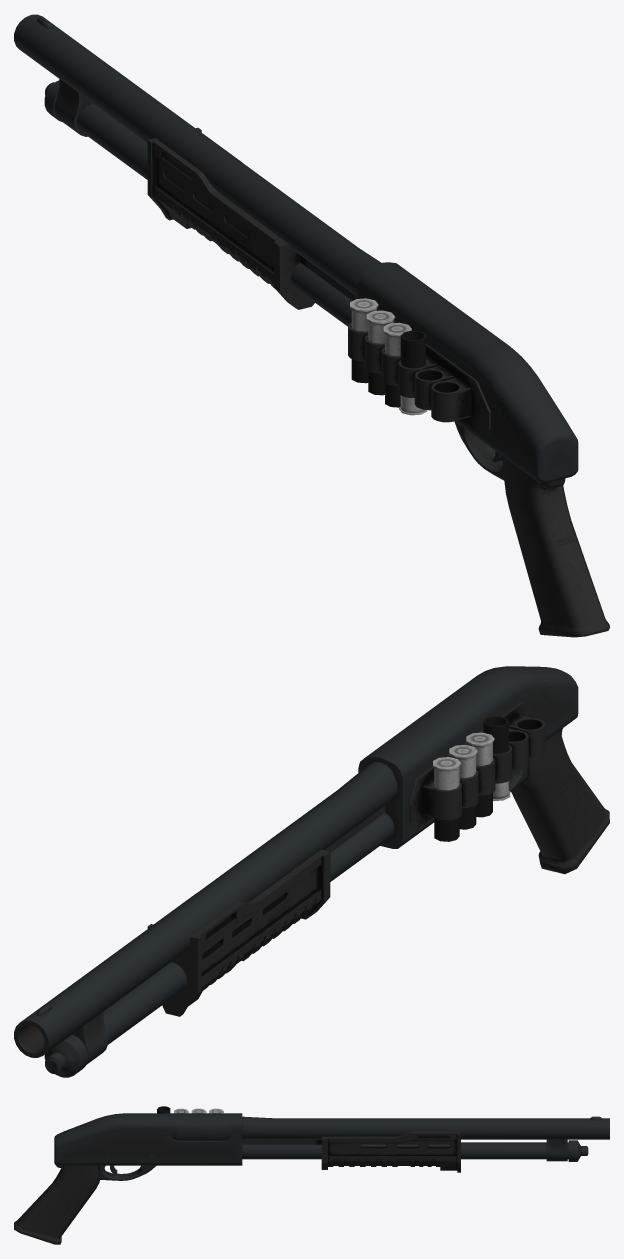
File: shotgun.fbx
The picture shows the model from 3 angles, top to bottom: view 1: azimuth 30°, elevation 25°; view 2: azimuth 150°, elevation 25°; view 3: azimuth 270°, elevation 25°; orthographic projection. The views are drawn at different scales.
Visible parts, largest first — view 1: holderlow.002; view 2: holderlow.002; view 3: holderlow.002.
Boxes of the visible parts, box(x1,y1,x2,y2) form: holderlow.002: box(14, 14, 609, 637); holderlow.002: box(14, 666, 609, 1077); holderlow.002: box(14, 1106, 609, 1244).
Bounding box in the file's own units: 48.98 × 140 × 597.
1 material, 1 textured.
